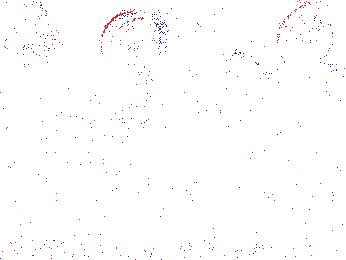moon jellyfish: (224, 52, 303, 135), (88, 73, 161, 144), (276, 4, 336, 82), (99, 9, 159, 76), (21, 78, 89, 129), (1, 1, 58, 54)
